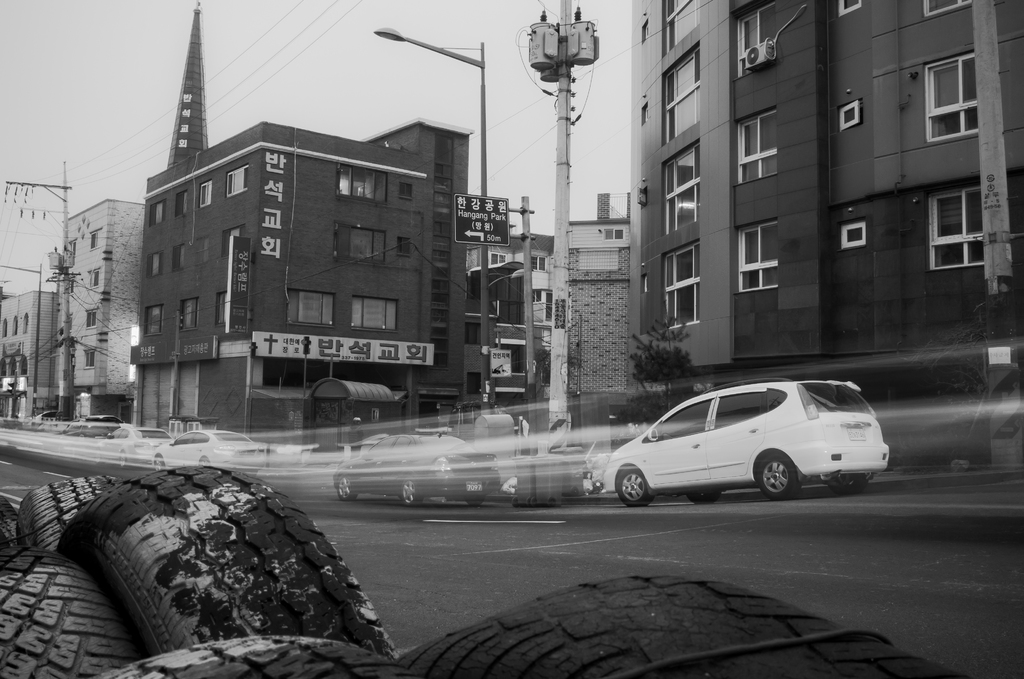Car: (611, 370, 895, 502), (330, 433, 497, 503), (146, 424, 273, 475)
